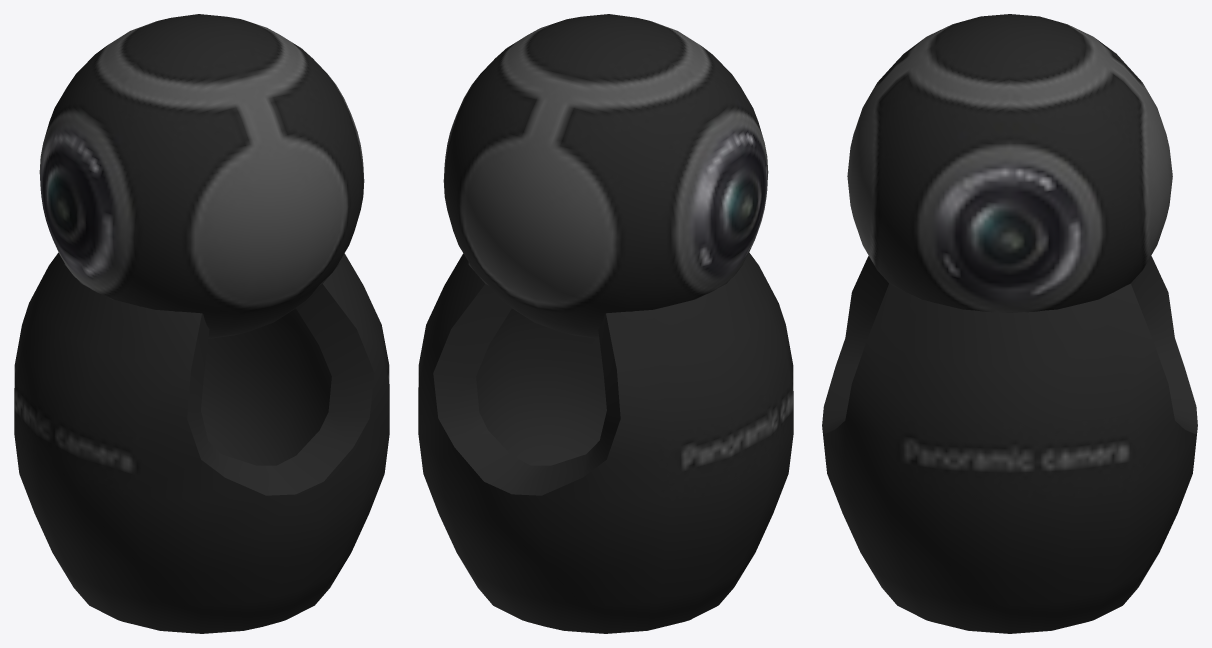
Rendered from TPBZ.gltf.
3 views of the same model, side by side, from view 1: azimuth 30°, elevation 25°; view 2: azimuth 150°, elevation 25°; view 3: azimuth 270°, elevation 25° (orthographic).
Visible parts, largest first — view 1: TPBZ; view 2: TPBZ; view 3: TPBZ.
Boxes of the visible parts, x1,y1,x2,y2 form: TPBZ: (14,14,389,633); TPBZ: (418,14,793,633); TPBZ: (822,14,1197,633).
Bounding box in the file's own units: 0.3454 × 0.5528 × 0.3403.
1 material, 1 textured.
